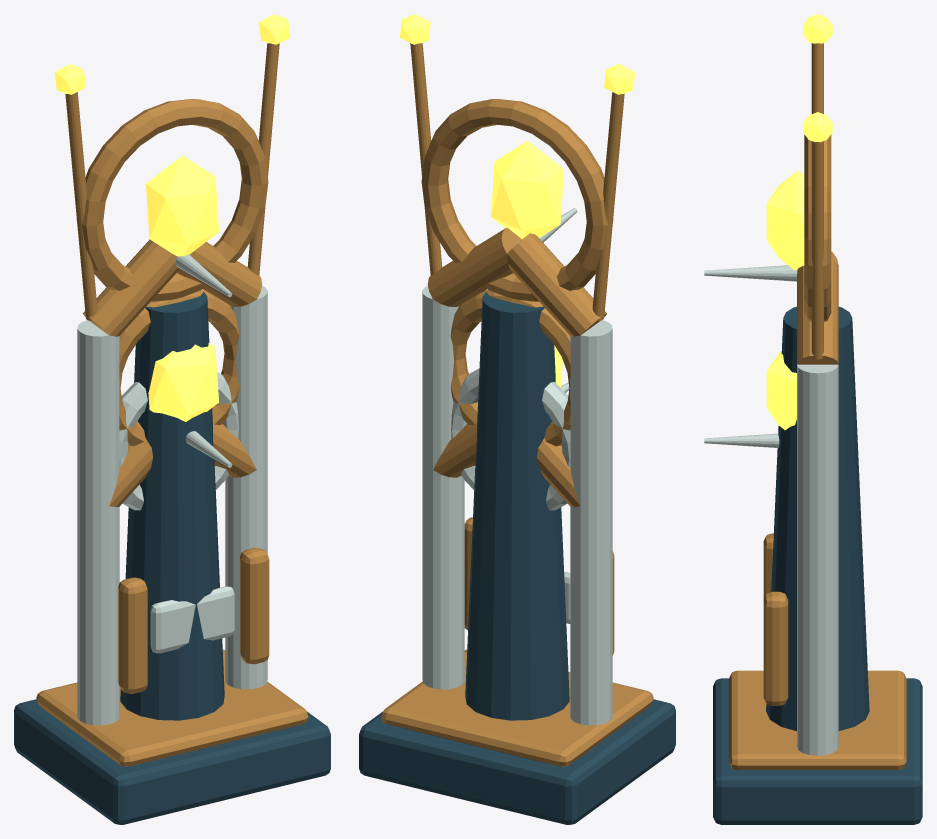
Rendered from memory_guardians.glb.
3 views of the same model, side by side, from view 1: azimuth 30°, elevation 25°; view 2: azimuth 150°, elevation 25°; view 3: azimuth 270°, elevation 25° (orthographic).
Parts seen in each view (by area): view 1: Spindle, Foot | ceramic, Arch | upright, Gimbal, Foot | copper rim, Arch | upright.001, Arch | upright.002, Lens, Lens.001, Gimbal.001, Arch | shoulder, Record plate (+12 smaller); view 2: Spindle, Foot | ceramic, Arch | upright, Arch | upright.001, Gimbal, Foot | copper rim, Arch | upright.002, Lens, Arch | upright.003, Arch | shoulder, Gimbal.001, Arch | shoulder.001 (+8 smaller); view 3: Spindle, Foot | ceramic, Arch | upright.001, Foot | copper rim, Arch | upright.003, Lens, Gimbal, Memory slat.001, Aerial.001, Arch | shoulder.001, Lens.001, Pointer (+5 smaller).
Part boxes in pixels (x1,y1,x2,y2): Spindle: [120, 292, 224, 720]; Foot | ceramic: [14, 699, 330, 824]; Arch | upright: [77, 320, 119, 725]; Gimbal: [76, 99, 268, 301]; Foot | copper rim: [36, 649, 308, 766]; Arch | upright.001: [225, 286, 267, 689]; Arch | upright.002: [77, 499, 119, 725]; Lens: [146, 155, 218, 256]; Lens.001: [148, 343, 218, 421]; Gimbal.001: [119, 290, 239, 446]; Arch | shoulder: [83, 239, 179, 336]; Record plate: [150, 586, 234, 653]; Spindle: [465, 292, 569, 720]; Foot | ceramic: [359, 699, 675, 824]; Arch | upright: [570, 320, 612, 725]; Arch | upright.001: [422, 286, 464, 689]; Gimbal: [421, 99, 613, 301]; Foot | copper rim: [381, 649, 653, 766]; Arch | upright.002: [570, 501, 612, 725]; Lens: [491, 141, 563, 239]; Arch | upright.003: [422, 465, 464, 688]; Arch | shoulder: [507, 233, 606, 336]; Gimbal.001: [450, 290, 570, 446]; Arch | shoulder.001: [427, 227, 521, 306]; Spindle: [766, 306, 869, 731]; Foot | ceramic: [713, 678, 922, 824]; Arch | upright.001: [797, 364, 838, 755]; Foot | copper rim: [729, 670, 906, 769]; Arch | upright.003: [797, 533, 838, 755]; Lens: [766, 170, 804, 270]; Gimbal: [804, 134, 831, 321]; Memory slat.001: [763, 591, 788, 705]; Aerial.001: [811, 141, 823, 359]; Arch | shoulder.001: [797, 260, 838, 364]; Lens.001: [766, 351, 796, 430]; Pointer: [704, 265, 797, 281].
Bounding box in the file's own units: 1.07 × 3.19 × 0.885.
